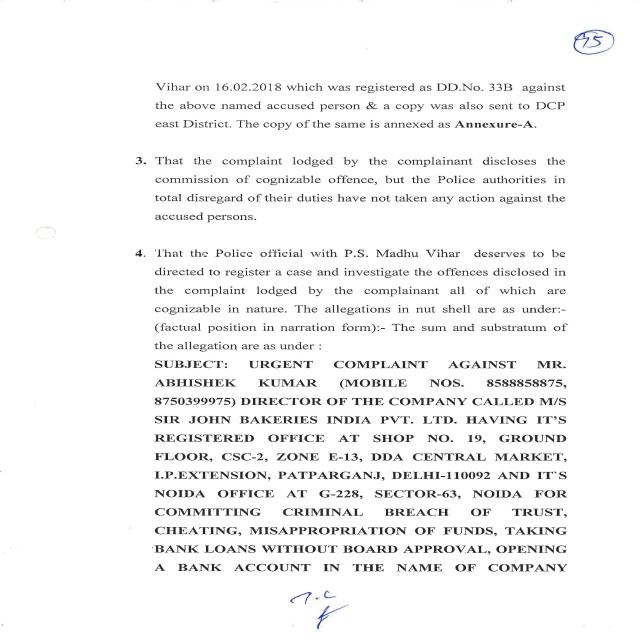page-number: (507, 0, 640, 71)
